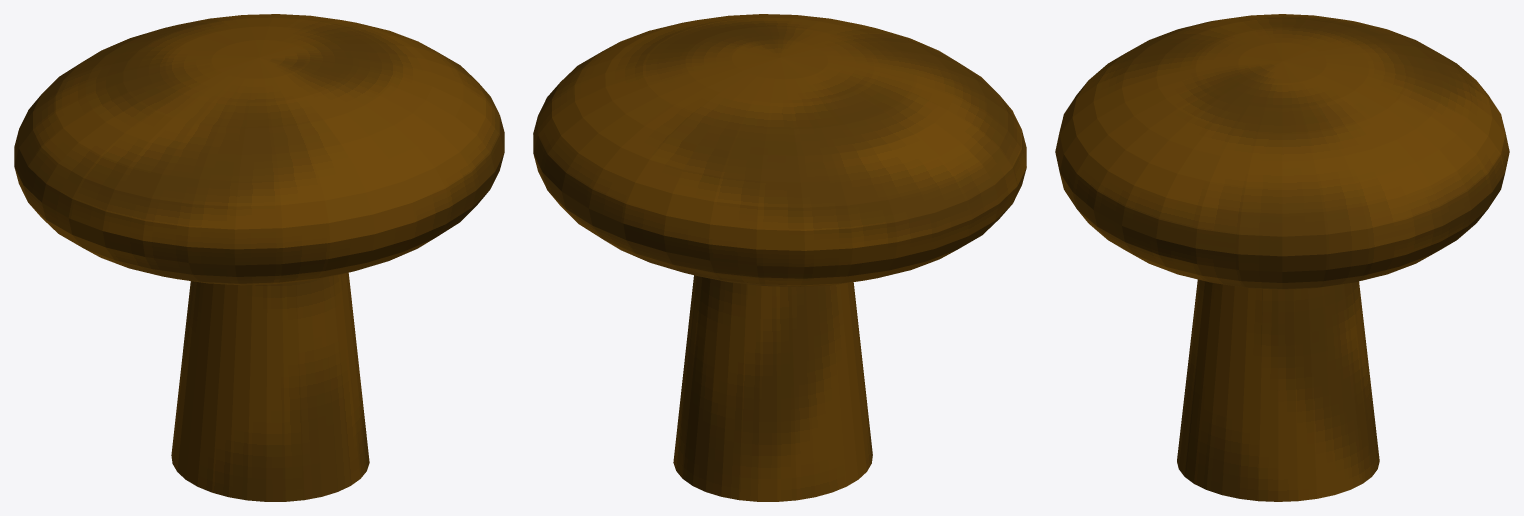
Rendered from ObjectBrownMushroom.dae.
3 renders of one model, left to right at view 1: azimuth 30°, elevation 25°; view 2: azimuth 150°, elevation 25°; view 3: azimuth 270°, elevation 25°, orthographic. The views are drawn at different scales.
Parts seen in each view (by area): view 1: Sphere.001, Cylinder; view 2: Sphere.001, Cylinder; view 3: Sphere.001, Cylinder.
Part boxes in pixels (bbox=[...]): Sphere.001: bbox=[14, 14, 504, 285]; Cylinder: bbox=[171, 272, 369, 501]; Sphere.001: bbox=[533, 14, 1026, 286]; Cylinder: bbox=[673, 275, 872, 501]; Sphere.001: bbox=[1055, 14, 1509, 289]; Cylinder: bbox=[1177, 279, 1379, 501].
Bounding box in the file's own units: 1.88 × 1.73 × 1.66.
1 material, 1 textured.
